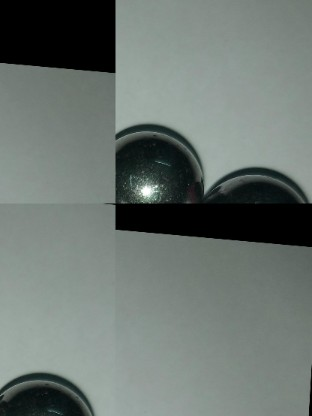ironball: (117, 125, 203, 201), (205, 160, 312, 207), (1, 368, 99, 414)
